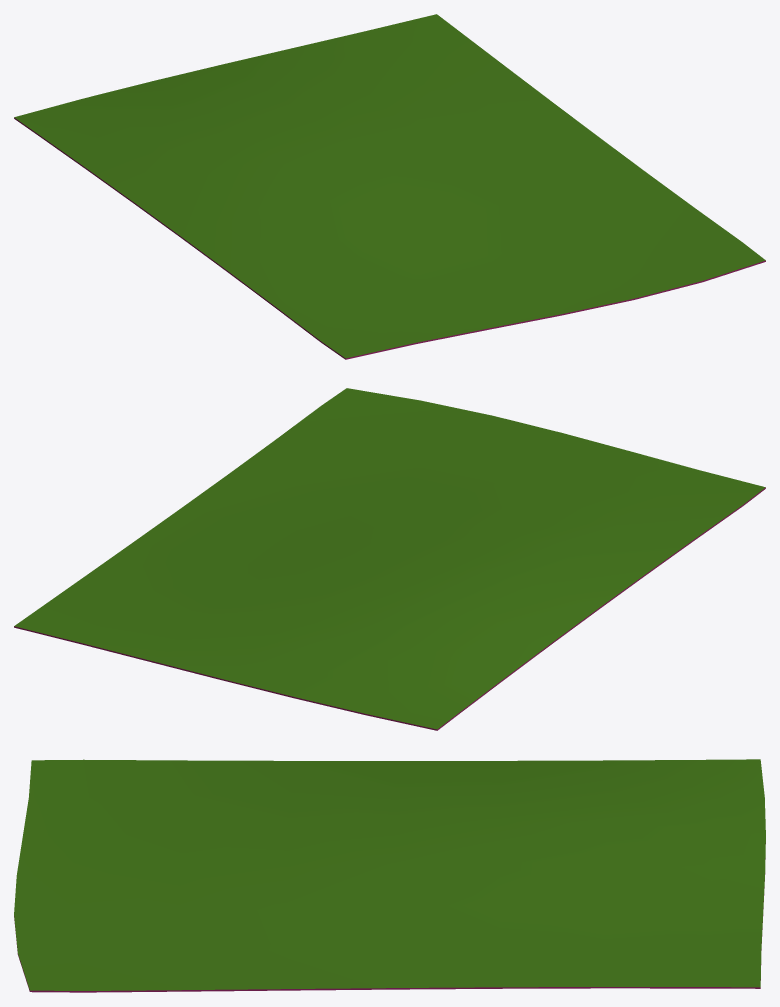
The model's file is Gela autoportet.FBX.
The picture shows the model from 3 angles, top to bottom: view 1: azimuth 30°, elevation 25°; view 2: azimuth 150°, elevation 25°; view 3: azimuth 270°, elevation 25°; orthographic projection. The views are drawn at different scales.
Visible parts, largest first — view 1: Box001; view 2: Box001; view 3: Box001.
Part boxes in pixels (x1=…): Box001: x1=14, y1=14, x2=765, y2=359; Box001: x1=14, y1=388, x2=765, y2=730; Box001: x1=14, y1=759, x2=765, y2=992.
Bounding box in the file's own units: 15.98 × 0.6365 × 22.28.
